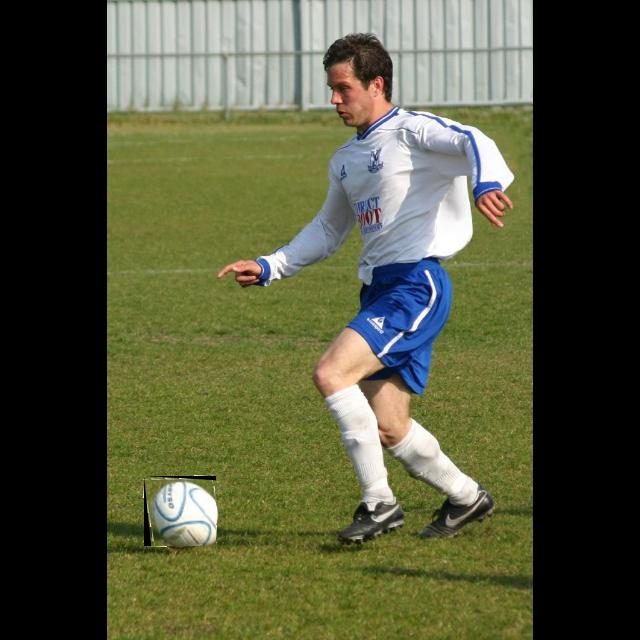Football: (144, 476, 216, 546)
